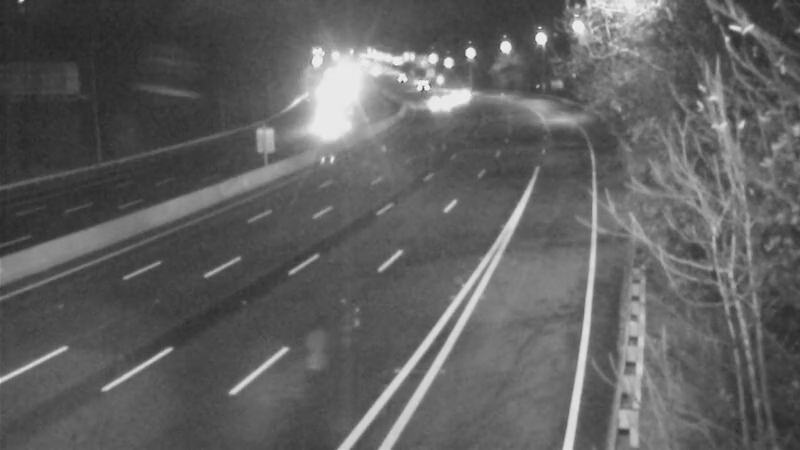vehicle: (396, 56, 446, 106), (437, 68, 487, 118), (409, 75, 459, 125)
